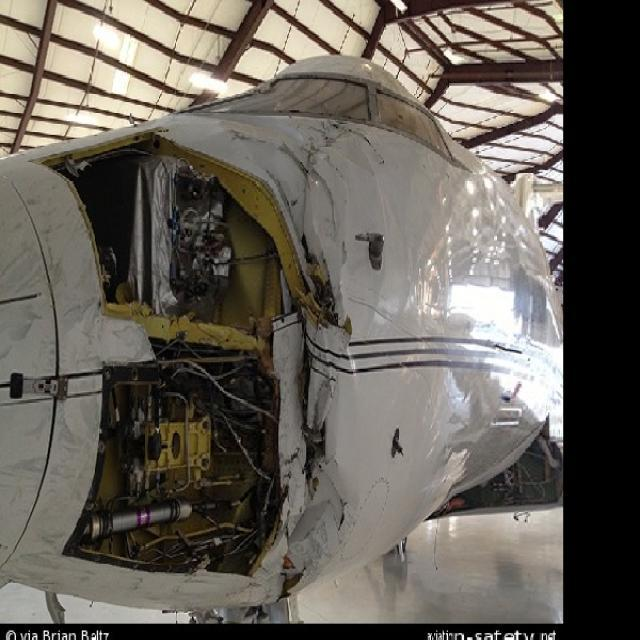crack: (322, 121, 388, 166), (317, 463, 351, 534)
